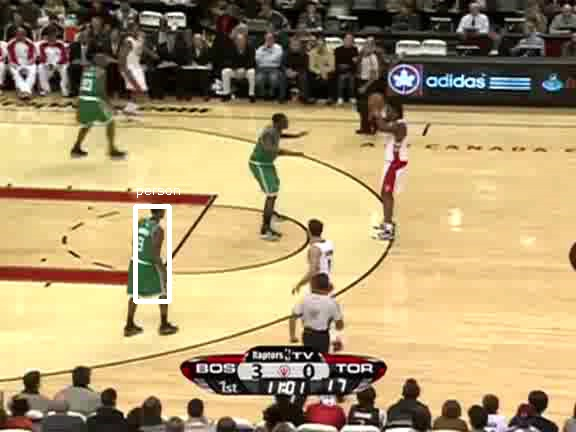person: (130, 218, 164, 299), (129, 218, 163, 299), (131, 218, 165, 299), (130, 217, 164, 298), (130, 219, 164, 300)
target_negative: (204, 289, 543, 365), (484, 118, 533, 257), (33, 220, 42, 380), (239, 393, 260, 423), (303, 13, 446, 17), (491, 15, 513, 39)
